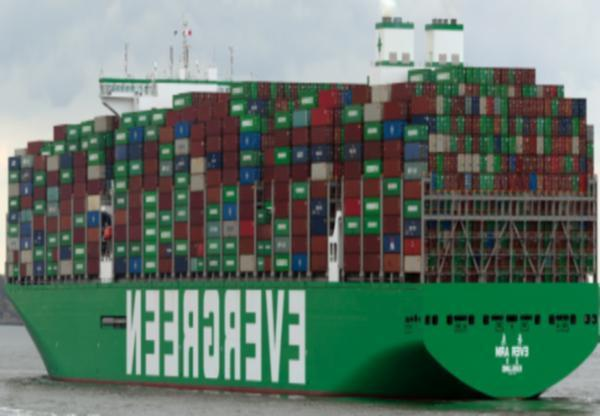Container Ship: (3, 8, 599, 401)
